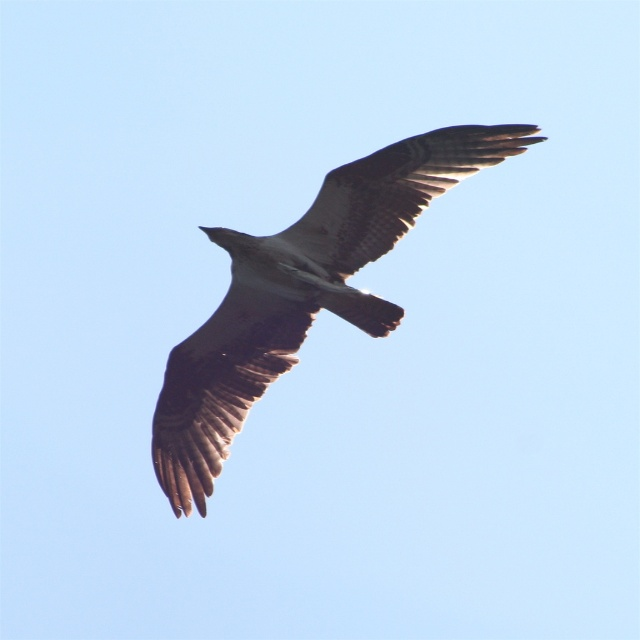Eagle: (123, 107, 562, 520)
